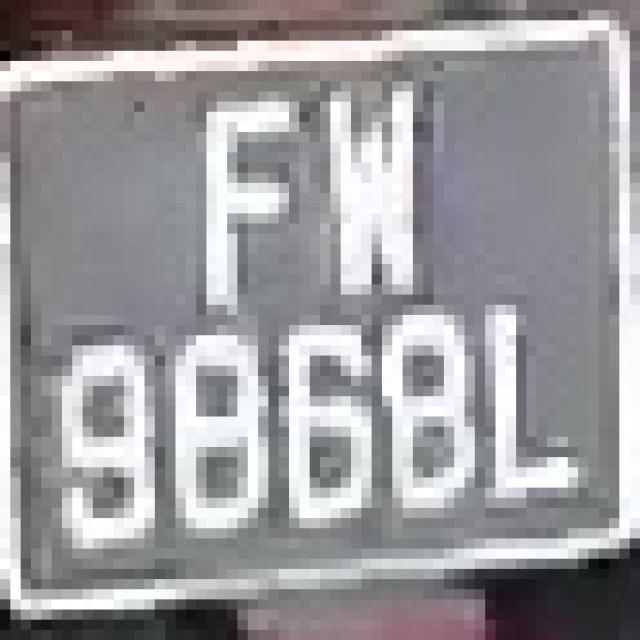6: (248, 305, 372, 528)
8: (134, 315, 279, 548), (382, 325, 464, 538)
9: (41, 294, 176, 600)
F: (175, 61, 320, 325)
L: (475, 264, 578, 528)
W: (289, 61, 454, 325)
